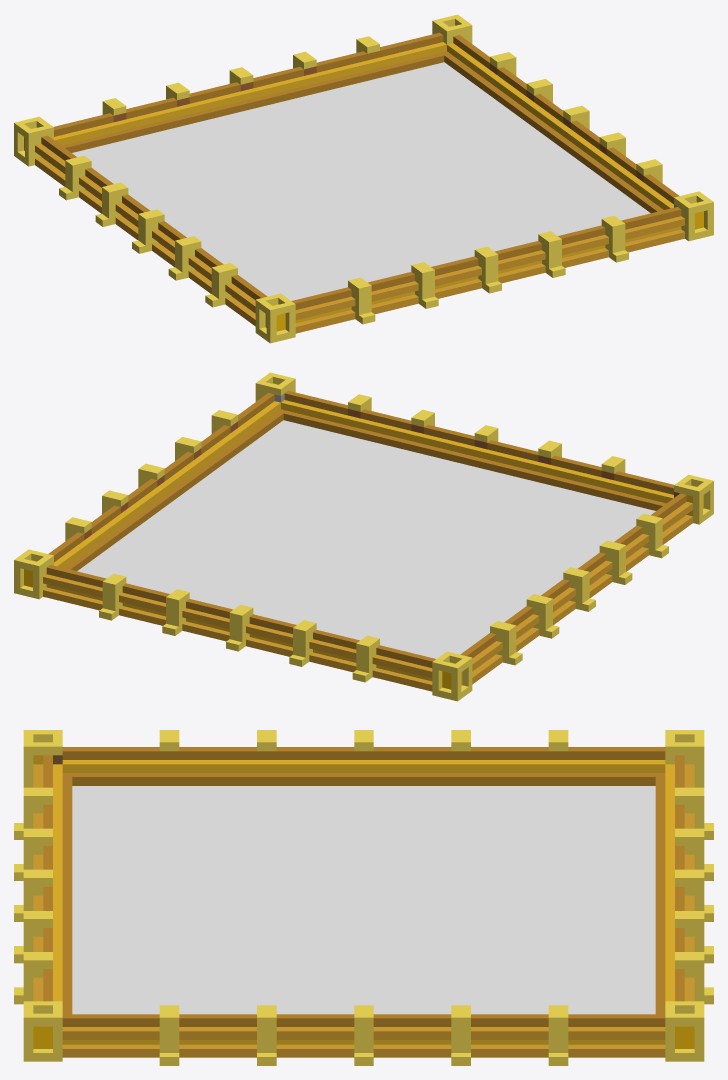
Rendered from PictureFrameGold.obj.
3 renders of one model, top to bottom at view 1: azimuth 30°, elevation 25°; view 2: azimuth 150°, elevation 25°; view 3: azimuth 270°, elevation 25°, orthographic. The views are drawn at different scales.
Bounding box in the file's own units: 72 × 5 × 72.
1 material, 1 textured.
